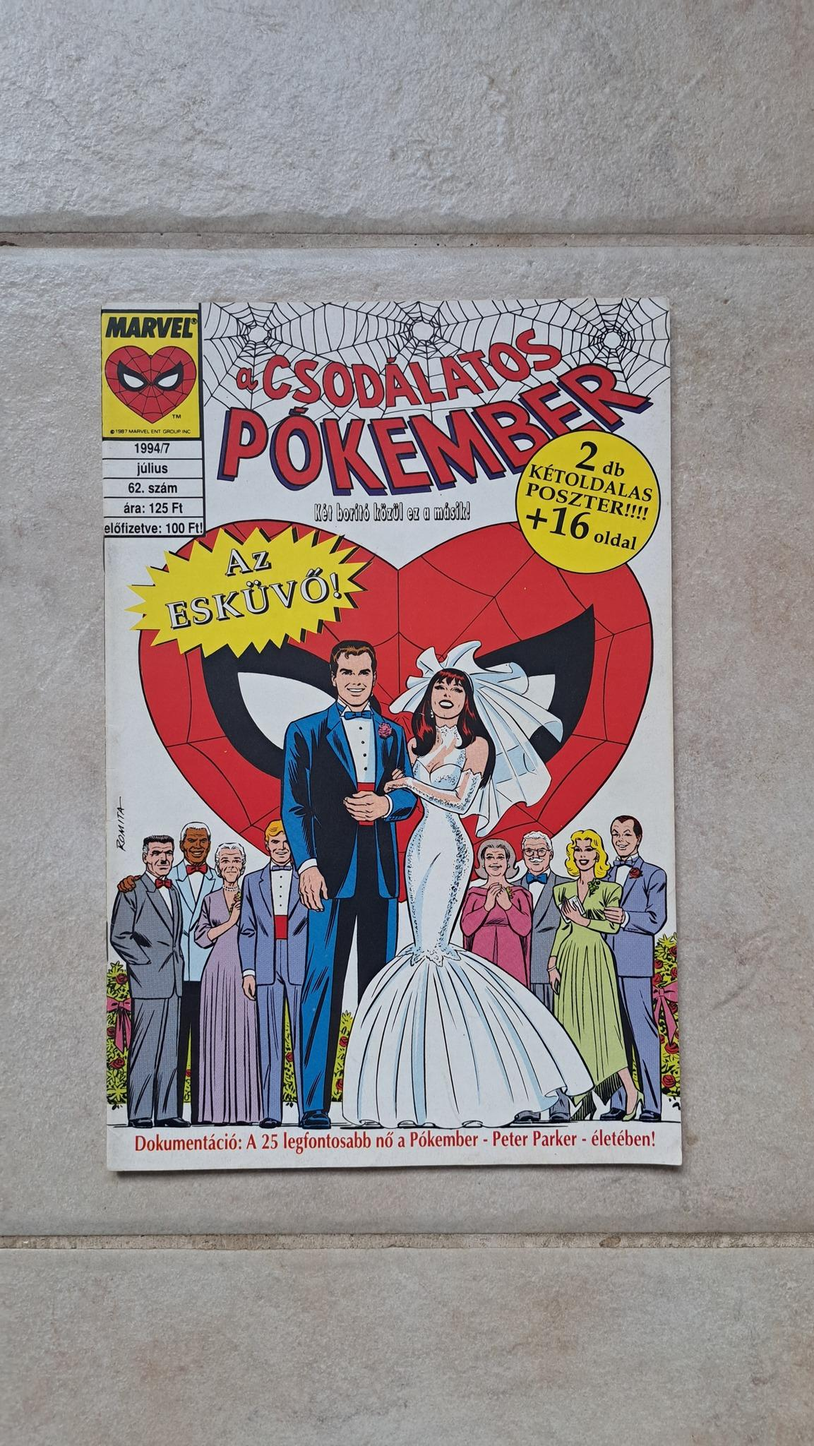comic: (99, 298, 679, 1170)
